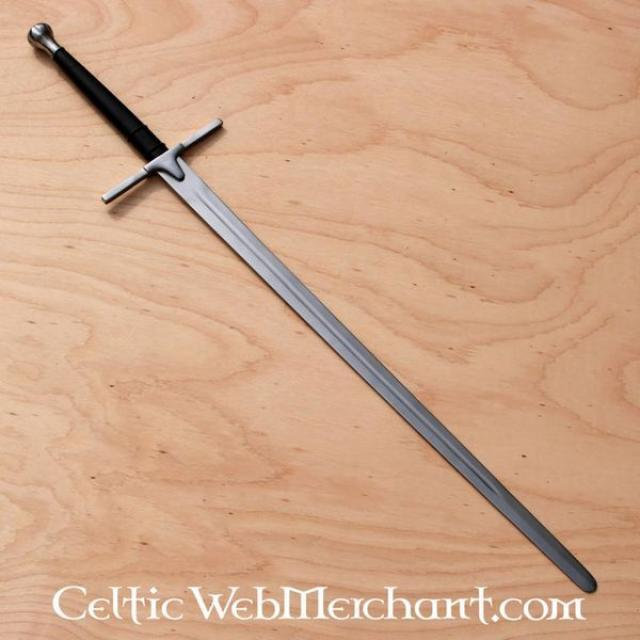long sword: (22, 16, 606, 602)
